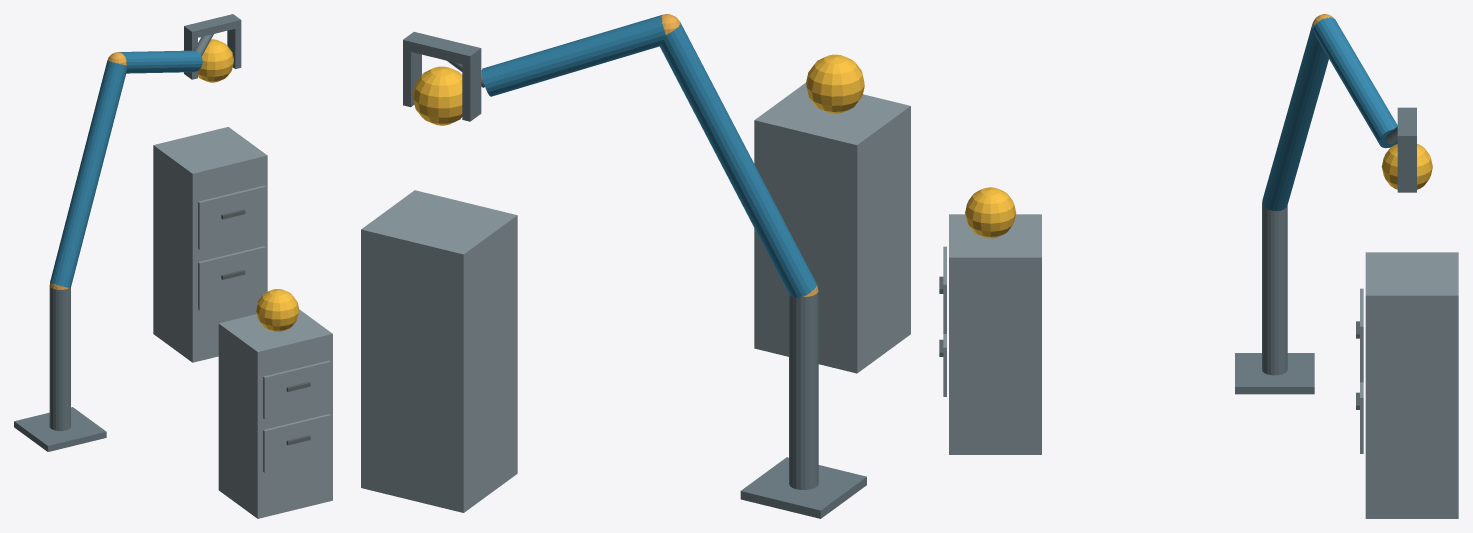
The picture shows the model from 3 angles, left to right: view 1: azimuth 30°, elevation 25°; view 2: azimuth 150°, elevation 25°; view 3: azimuth 270°, elevation 25°; orthographic projection. The views are drawn at different scales.
Parts seen in each view (by area): view 1: cabinet_2 body, cabinet_1 body, moving link 1, cabinet_2 drawer front.001, cabinet_2 drawer front, fixed post, cabinet_1 drawer front.001, cabinet_1 drawer front, pedestal, moving link 2, released ball_1, ball ball_2 (+2 smaller); view 2: cabinet_2 body, cabinet_1 body, moving link 1, fixed post, moving link 2, pedestal, released ball_1, ball ball_2, gripper bridge, gripper finger -1, gripper finger 1; view 3: cabinet_2 body, cabinet_1 body, moving link 1, fixed post, moving link 2, pedestal, released ball_1, ball ball_2, gripper finger 1, gripper bridge.
Part boxes in pixels (x1,y1,x2,y2): cabinet_2 body: (153,127,267,362); cabinet_1 body: (218,309,332,518); moving link 1: (50,60,127,287); cabinet_2 drawer front.001: (198,185,265,249); cabinet_2 drawer front: (198,246,265,310); fixed post: (49,286,70,430); cabinet_1 drawer front.001: (263,360,330,419); cabinet_1 drawer front: (263,414,330,472); pedestal: (14,407,106,451); moving link 2: (119,50,202,73); released ball_1: (256,289,299,331); ball ball_2: (198,39,233,82); cabinet_2 body: (361,190,517,512); cabinet_1 body: (754,83,910,373); moving link 1: (660,22,816,298); fixed post: (789,290,818,489); moving link 2: (482,14,665,96); pedestal: (740,457,866,518); released ball_1: (806,54,864,113); ball ball_2: (412,66,462,125); gripper bridge: (403,32,481,66); gripper finger -1: (462,58,481,121); gripper finger 1: (403,50,421,107); cabinet_2 body: (1365,252,1458,518); cabinet_1 body: (949,214,1041,454); moving link 1: (1262,23,1328,211); fixed post: (1262,204,1287,375); moving link 2: (1313,17,1397,148); pedestal: (1235,353,1314,394); released ball_1: (965,187,1016,238); ball ball_2: (1381,144,1432,189); gripper finger 1: (1397,144,1416,192); gripper bridge: (1397,107,1416,144).
Size of the model in its own units: 1.17 by 1.41 by 1.62.
